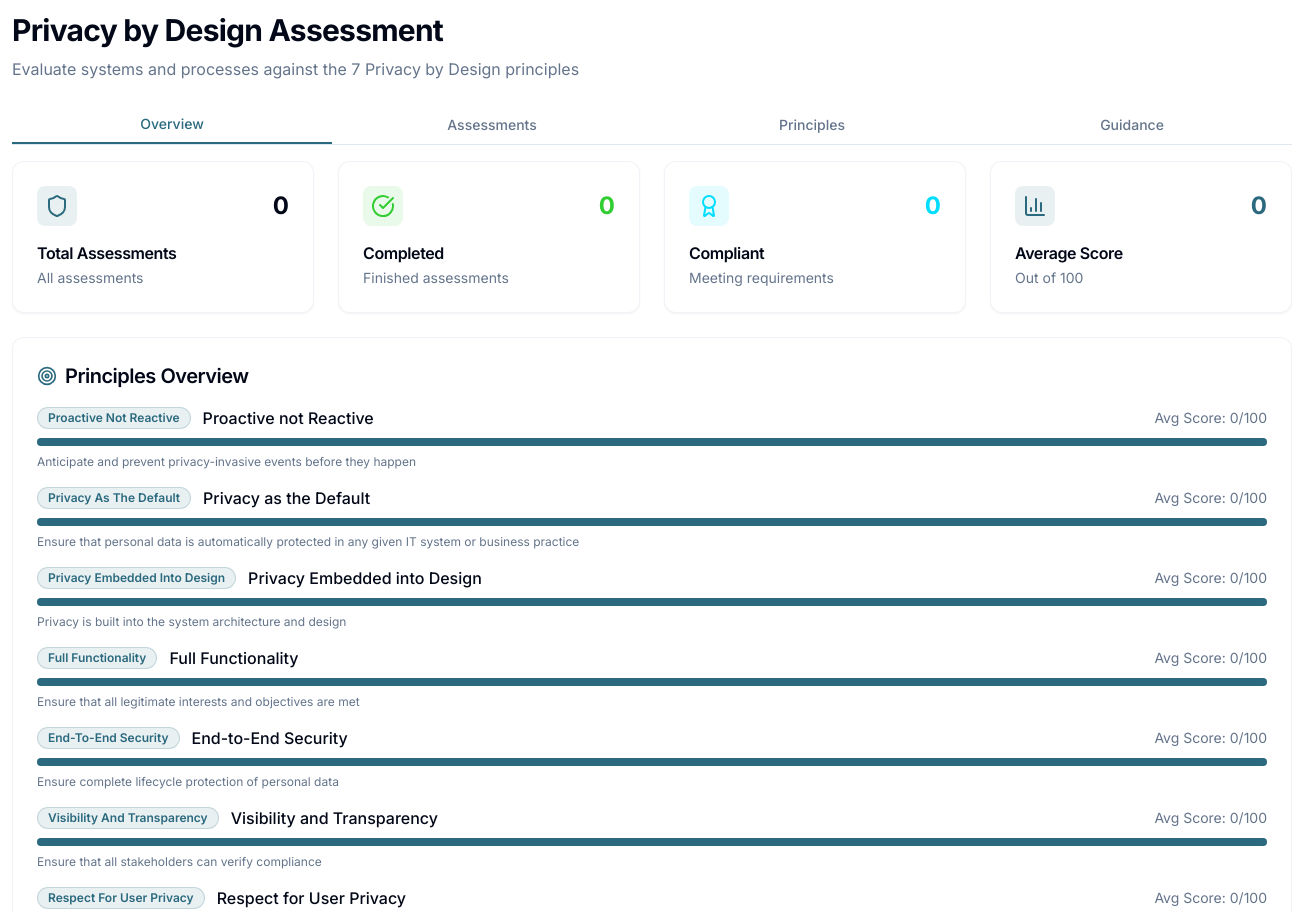
PrivacyByDesignAssessment Component › Assessments Tab › should render filters and new assessment button
Expected: the heading "Privacy by Design Assessment" is shown, x1=12 y1=12 x2=443 y2=48
Switch to assessments tab
Step 1. Click the button "Assessments" → (492, 125), box x1=332 y1=106 x2=652 y2=144
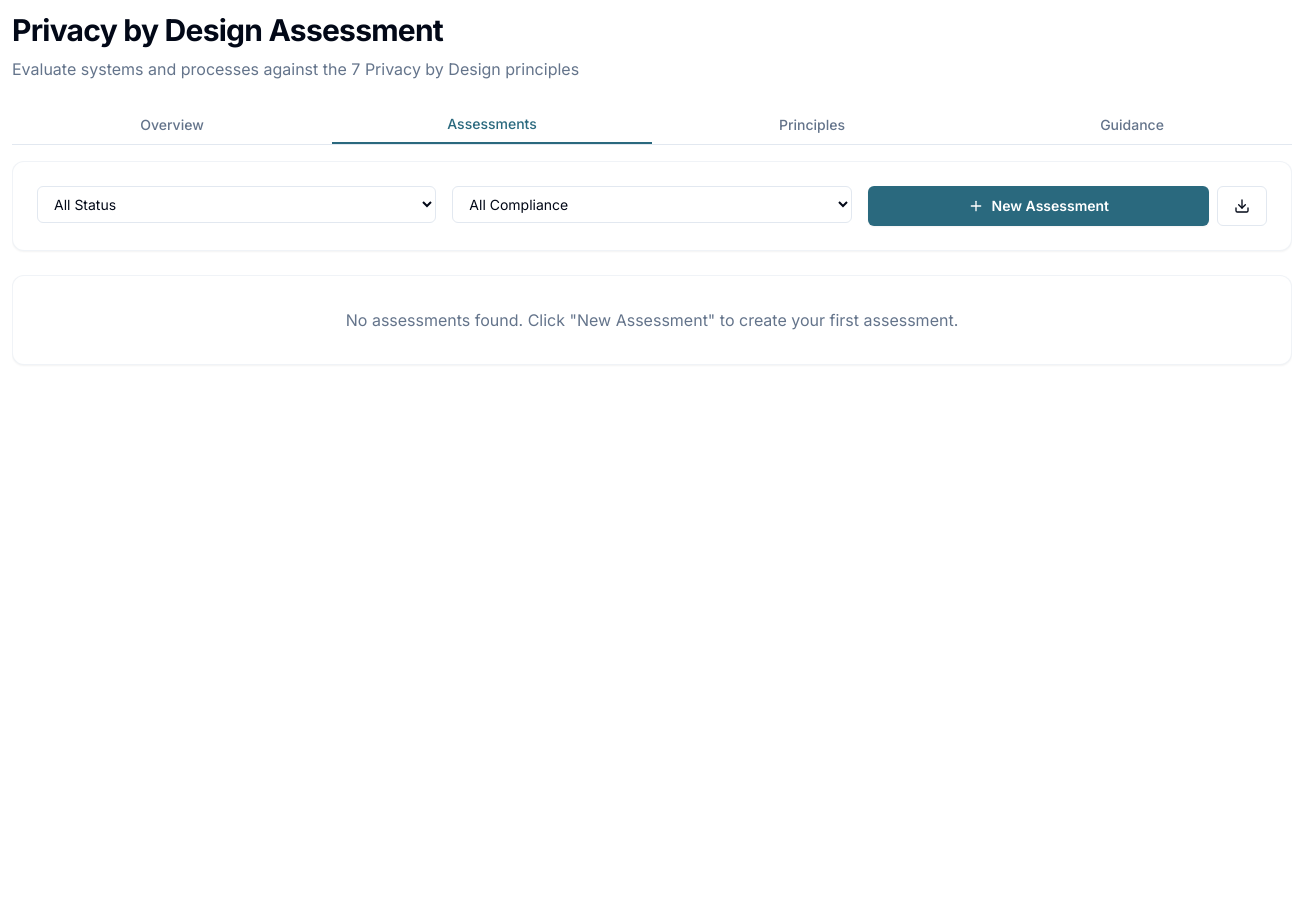
Result: the dropdown named "Filter assessments by status" is shown at x1=37 y1=186 x2=436 y2=223
Result: the dropdown named "Filter assessments by compliance status" is shown at x1=452 y1=186 x2=852 y2=223
Result: the button "New Assessment" is shown at x1=868 y1=186 x2=1209 y2=226
